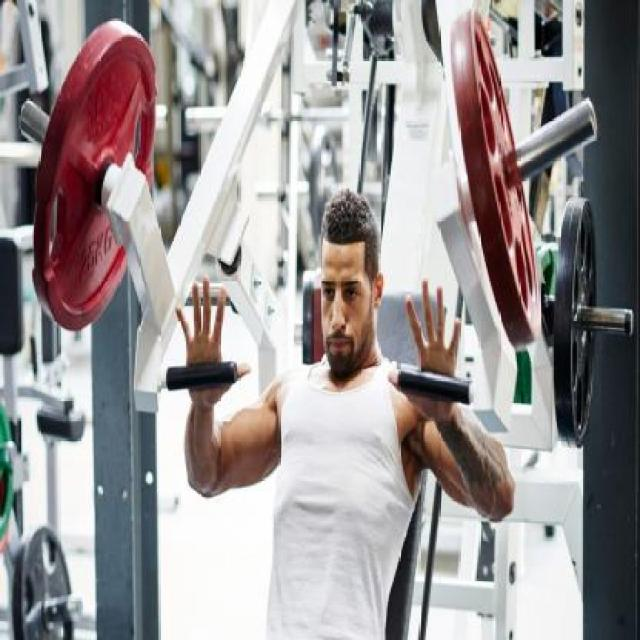Chest Press machine: (17, 0, 635, 640)
